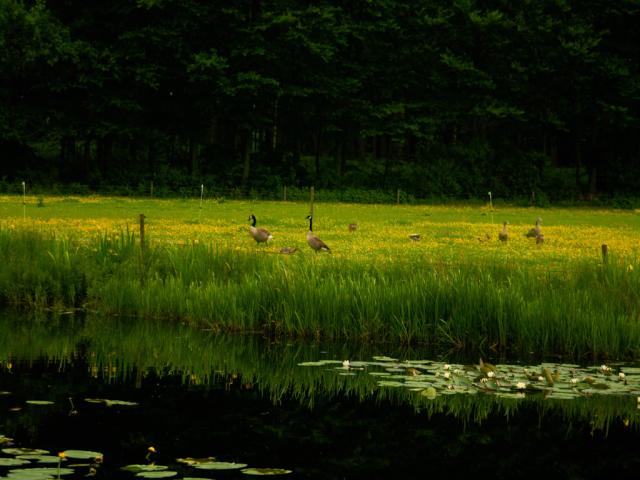Bird: (304, 213, 334, 256), (246, 210, 272, 252), (526, 215, 542, 237), (497, 220, 509, 245), (347, 220, 360, 234), (409, 232, 421, 244), (535, 234, 543, 244)
